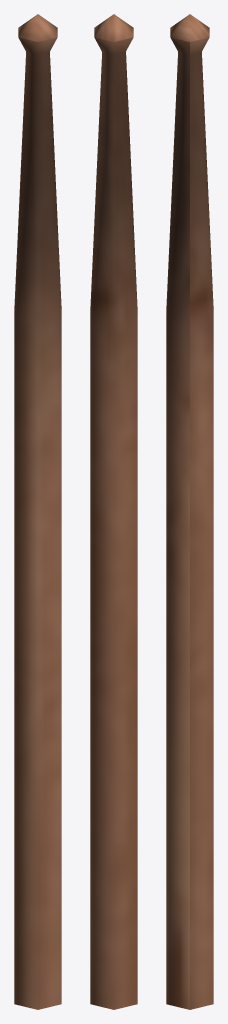
Rendered from DKFYB_Drumstick.fbx.
3 views of the same model, side by side, from view 1: azimuth 90°, elevation 25°; view 2: azimuth 210°, elevation 25°; view 3: azimuth 270°, elevation 25° (orthographic).
Visible parts, largest first — view 1: DKFYB_drumstick; view 2: DKFYB_drumstick; view 3: DKFYB_drumstick.
Boxes of the visible parts, <box> form: DKFYB_drumstick: <box>14,14,61,1009</box>; DKFYB_drumstick: <box>90,14,137,1009</box>; DKFYB_drumstick: <box>166,14,213,1009</box>.
Size of the model in its own units: 0.0196 by 0.3918 by 0.017.
